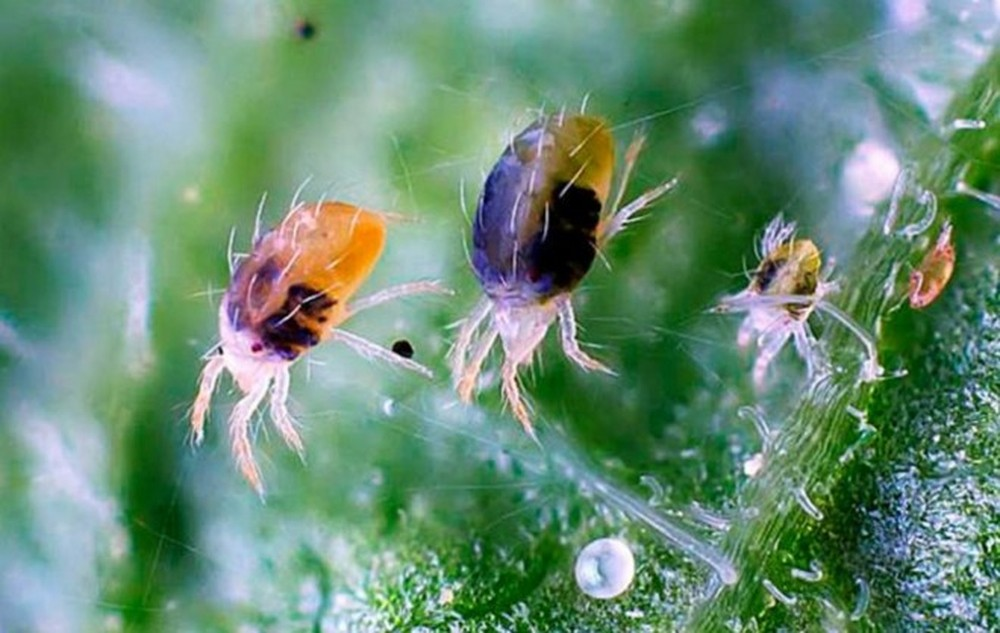Aracnido Rojo: (159, 182, 433, 487), (415, 97, 643, 430), (705, 197, 850, 395)
